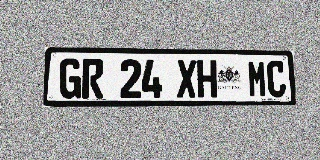2: (120, 59, 141, 98)
4: (142, 59, 162, 98)
C: (266, 61, 286, 97)
G: (59, 58, 82, 99)
H: (197, 60, 217, 98)
M: (247, 60, 267, 97)
R: (82, 59, 104, 98)
X: (177, 60, 197, 98)
